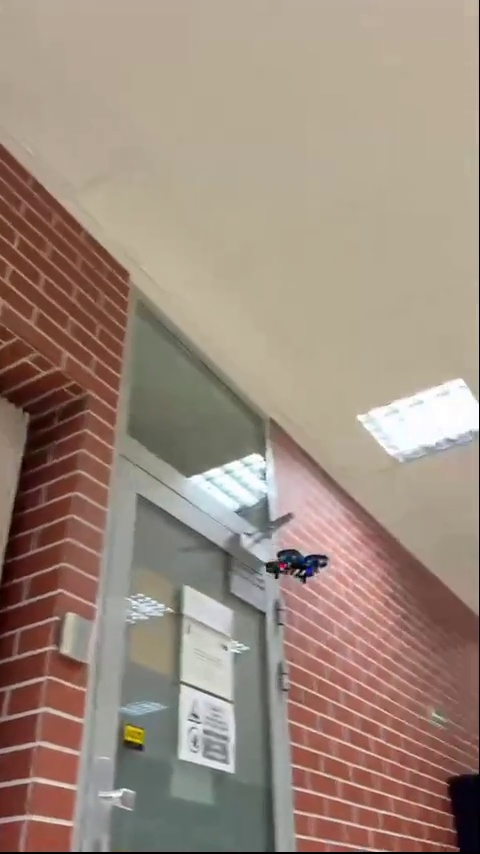drone: (265, 548, 325, 583)
